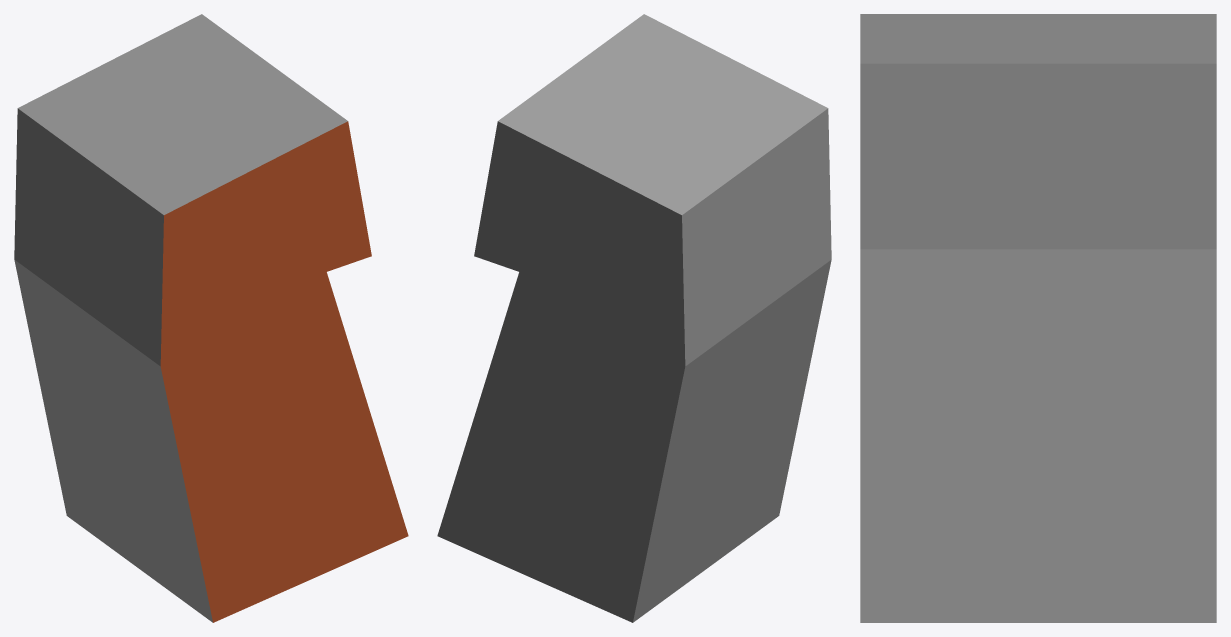
File: construction_2956_assumed_A_Casa_h6m.obj
The picture shows the model from 3 angles, left to right: view 1: azimuth 30°, elevation 25°; view 2: azimuth 150°, elevation 25°; view 3: azimuth 270°, elevation 25°; orthographic projection. The views are drawn at different scales.
Parts seen in each view (by area): view 1: construction_2956_assumed_A_Casa; view 2: construction_2956_assumed_A_Casa; view 3: construction_2956_assumed_A_Casa.
Part boxes in pixels (x1,y1,x2,y2): construction_2956_assumed_A_Casa: [14, 14, 408, 622]; construction_2956_assumed_A_Casa: [437, 14, 831, 622]; construction_2956_assumed_A_Casa: [860, 14, 1216, 622].
Size of the model in its own units: 5.87 by 10.6 by 6.
